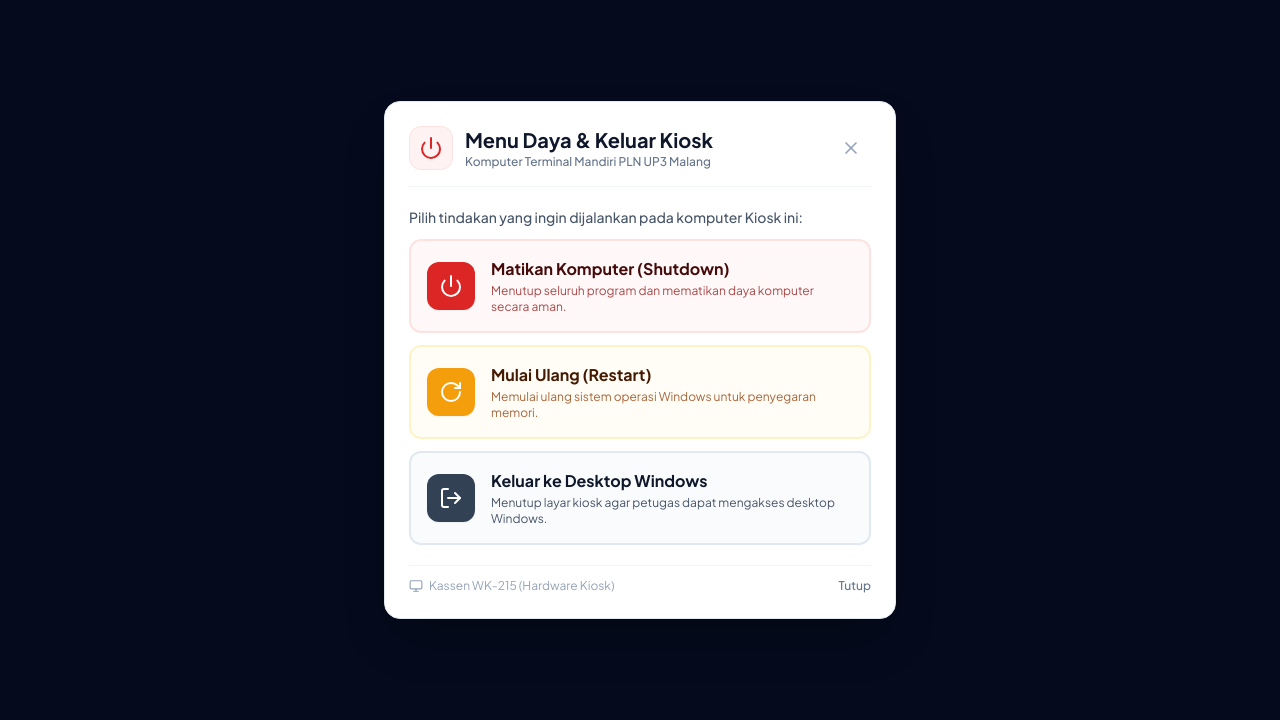
Test case: Kiosk Shutdown & System Power Menu › opens confirmation screen with 5s countdown on clicking Shutdown and cancels on Batal
Click the heading "Matikan Komputer (Shutdown)": (610, 268) [491, 258, 730, 279]
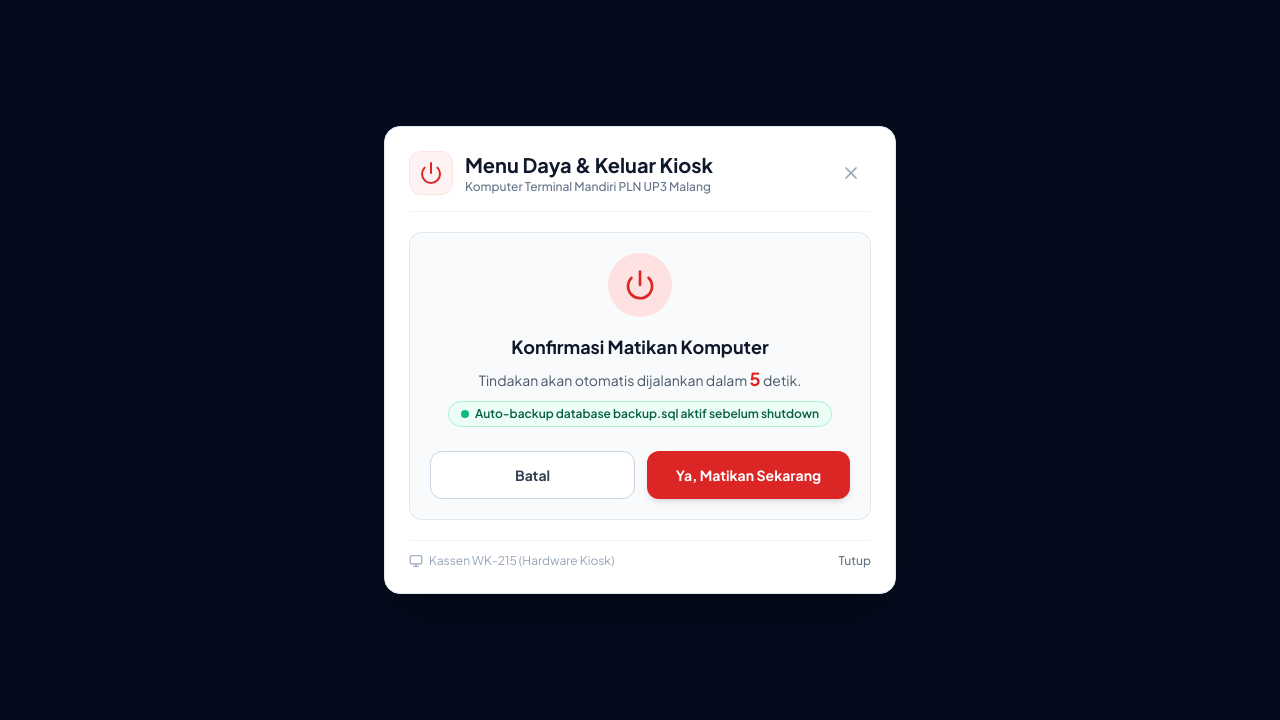
Result: the heading "Konfirmasi Matikan Komputer" is shown at [511, 335, 769, 358]
Result: the text "5" is shown at [750, 367, 761, 390]
Result: the button "Ya, Matikan Sekarang" is shown at [647, 451, 850, 499]
Cancel returns to menu
Click the button "Batal": (532, 475) [430, 451, 635, 499]
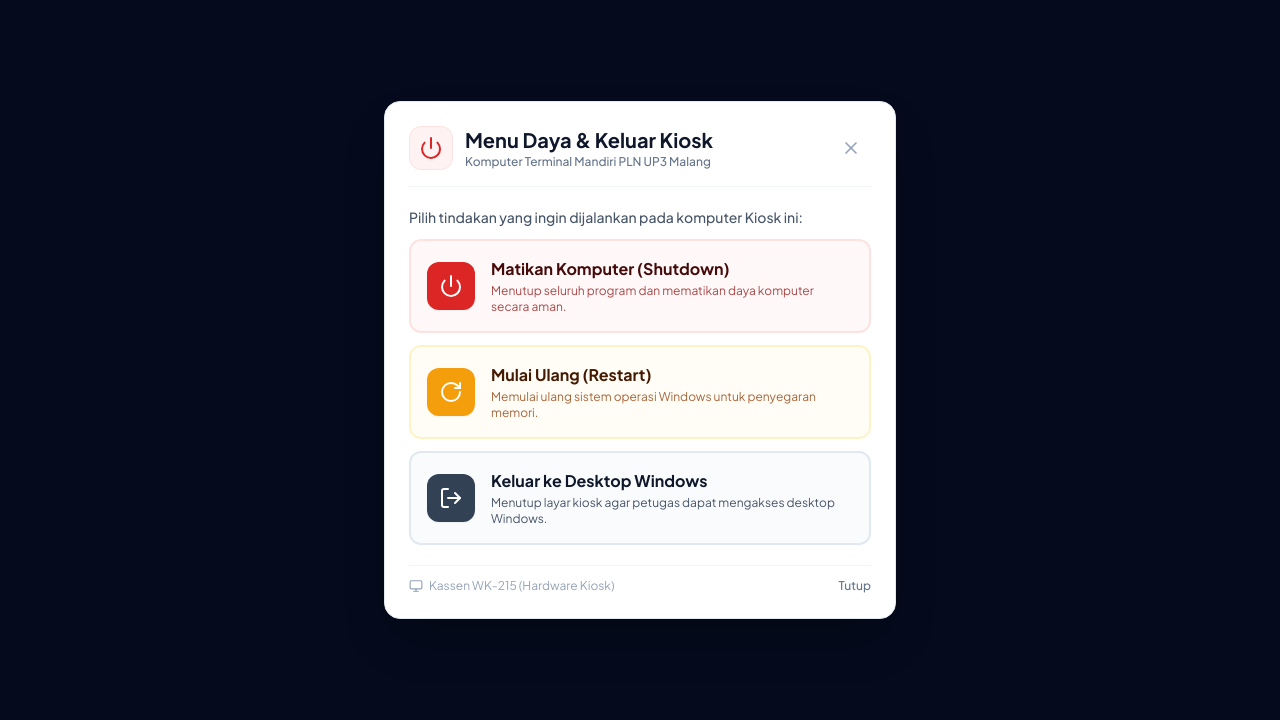
Result: the text "Pilih tindakan yang ingin dijalankan" is shown at [409, 208, 803, 226]
